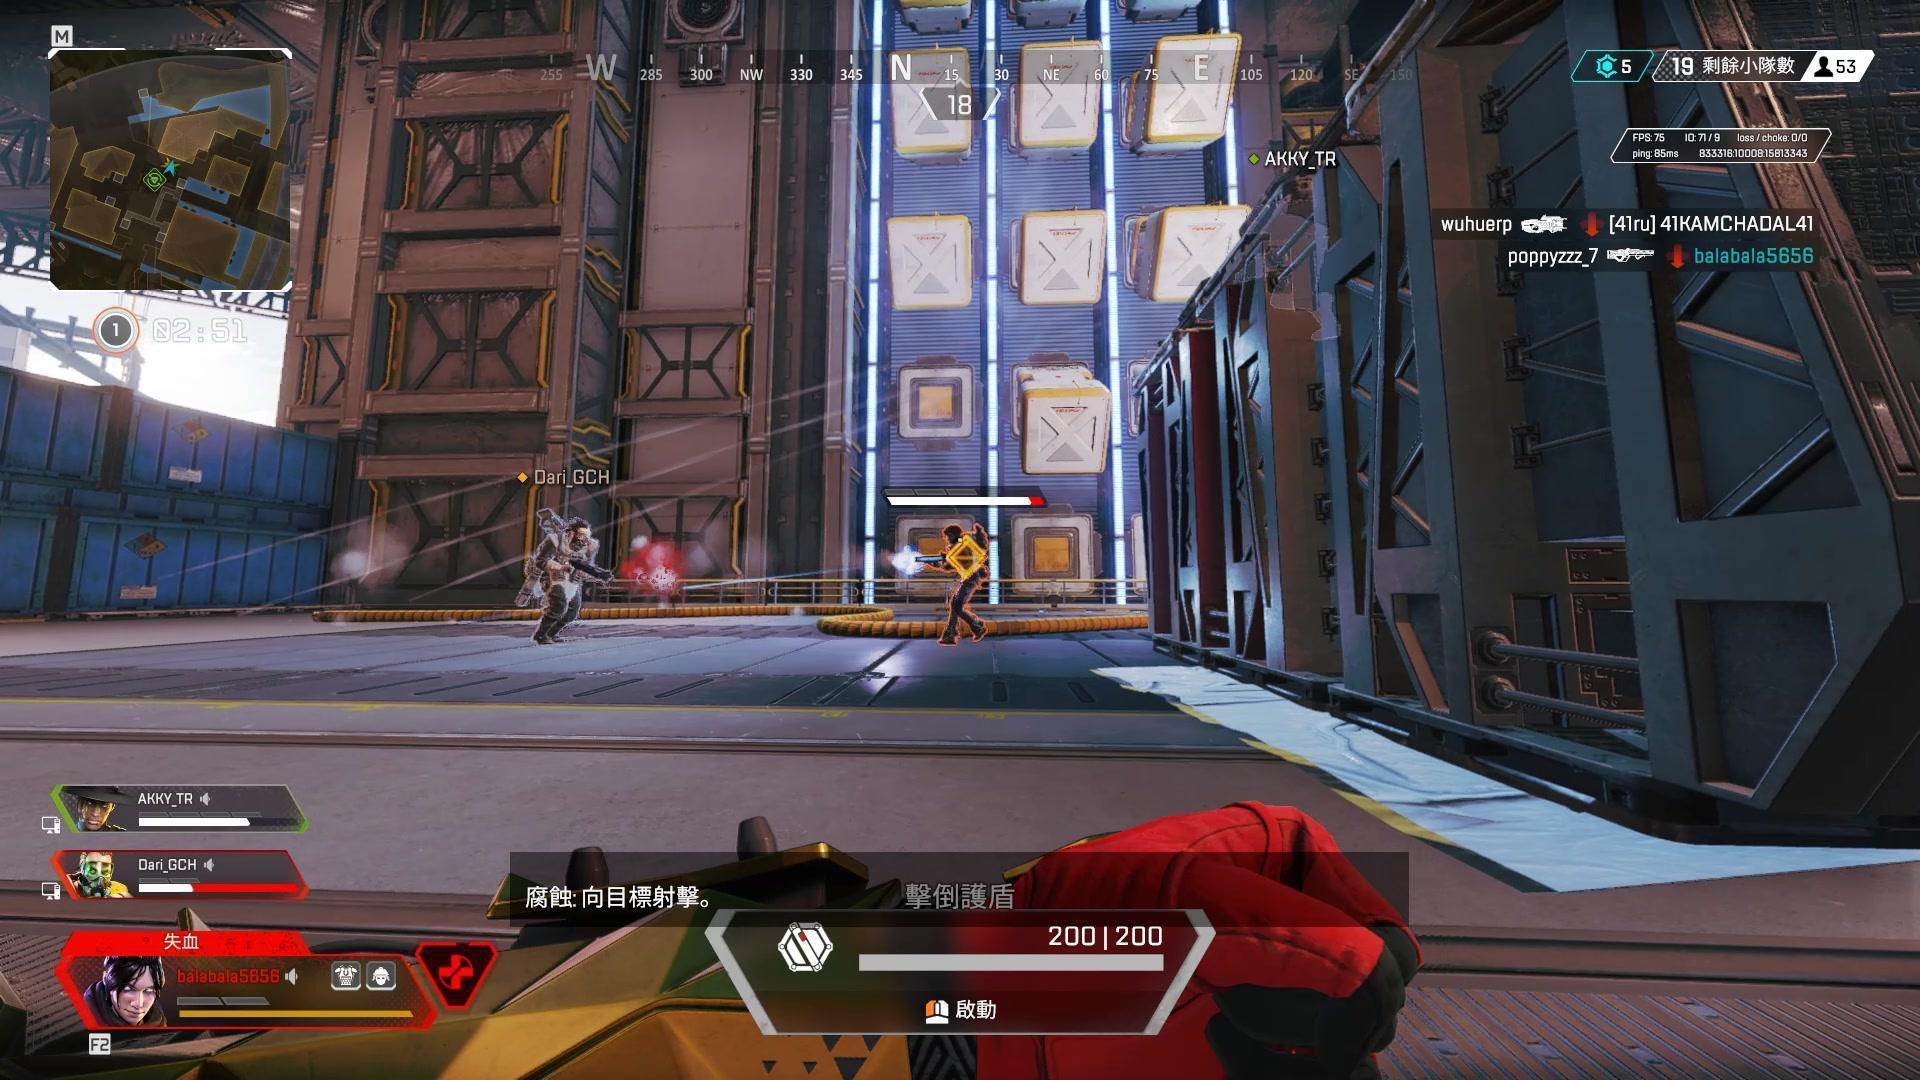avatar: (523, 517, 600, 647), (938, 525, 991, 647)
object: (944, 535, 990, 581)
